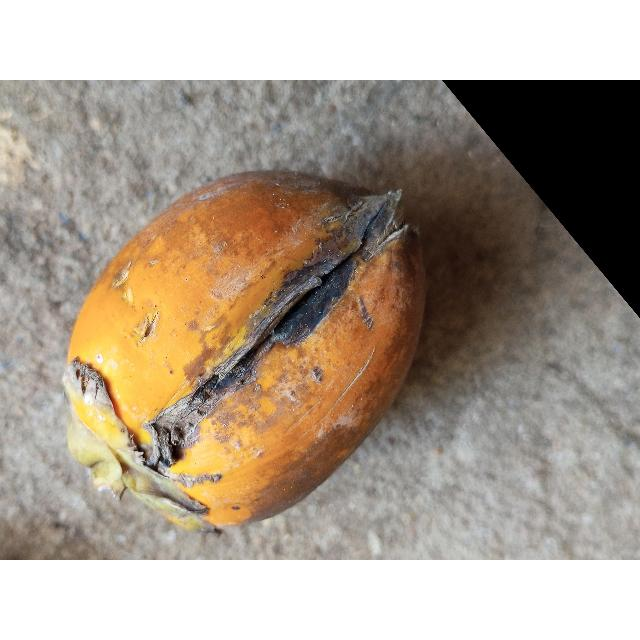damaged: (61, 171, 427, 537)
